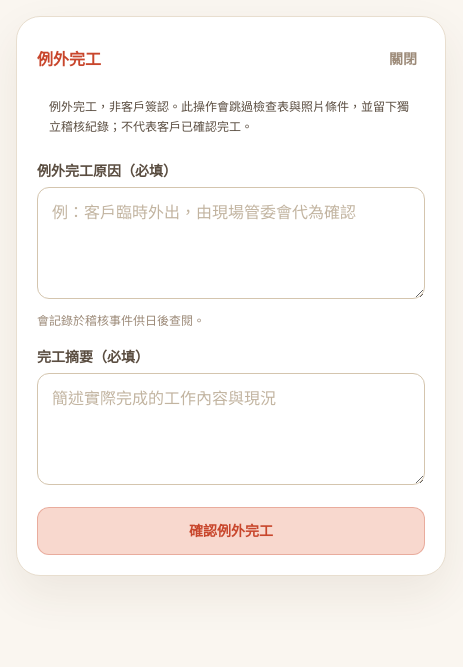
it: ForceCompleteSheet › requires a reason before submitting
Step 1. Click the button "確認例外完工" → (231, 531), box [37, 507, 425, 555]
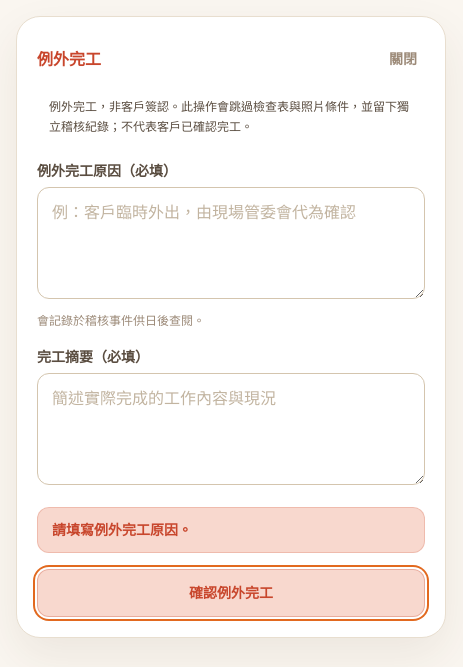
Expected: the text "請填寫例外完工原因。" is shown, [37, 507, 425, 553]
